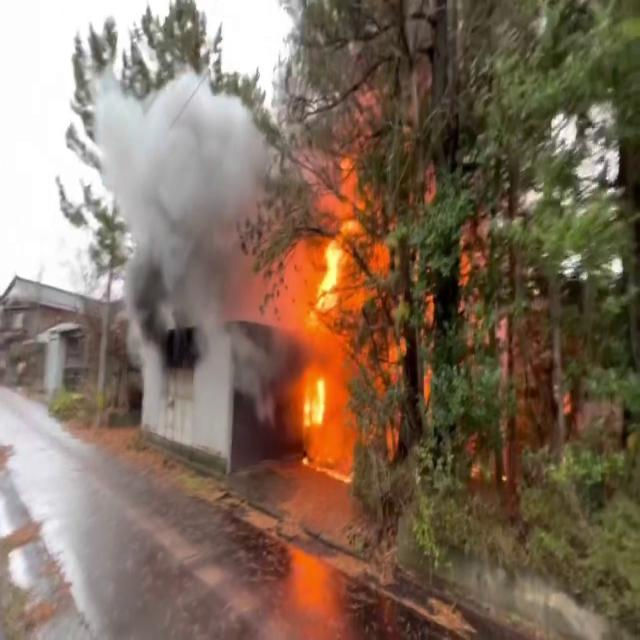Fire: (276, 179, 370, 473)
Smoke: (86, 37, 284, 400)
